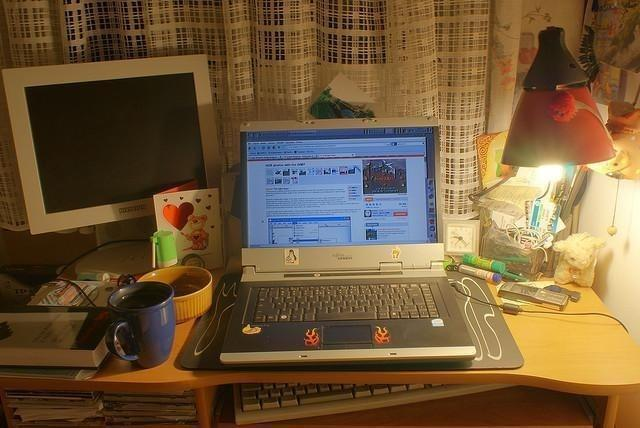cup-handle: (104, 281, 176, 371)
